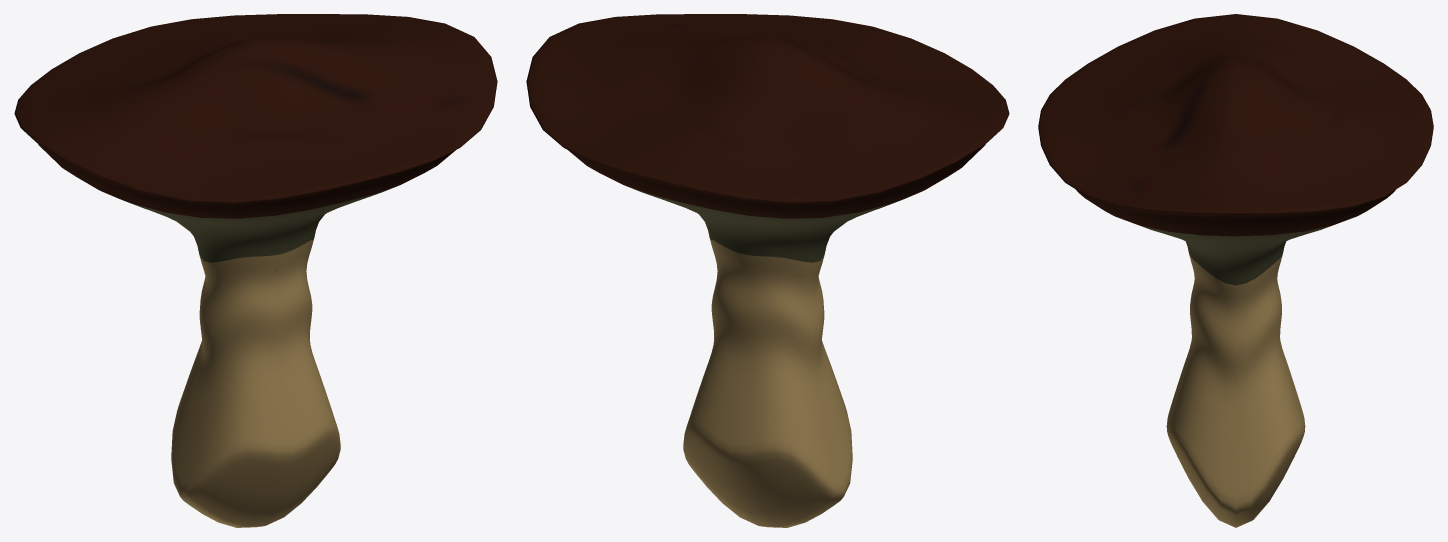
The model's file is mushroom_b.fbx.
3 renders of one model, left to right at view 1: azimuth 30°, elevation 25°; view 2: azimuth 150°, elevation 25°; view 3: azimuth 270°, elevation 25°, orthographic. The views are drawn at different scales.
Parts seen in each view (by area): view 1: Cube; view 2: Cube; view 3: Cube.
Part boxes in pixels (box(x1,y1,x2,y2)): Cube: box(14, 14, 497, 527); Cube: box(526, 14, 1009, 527); Cube: box(1038, 14, 1433, 527).
Bounding box in the file's own units: 779 × 826 × 654.
Materials: 1 (1 with a texture image).
